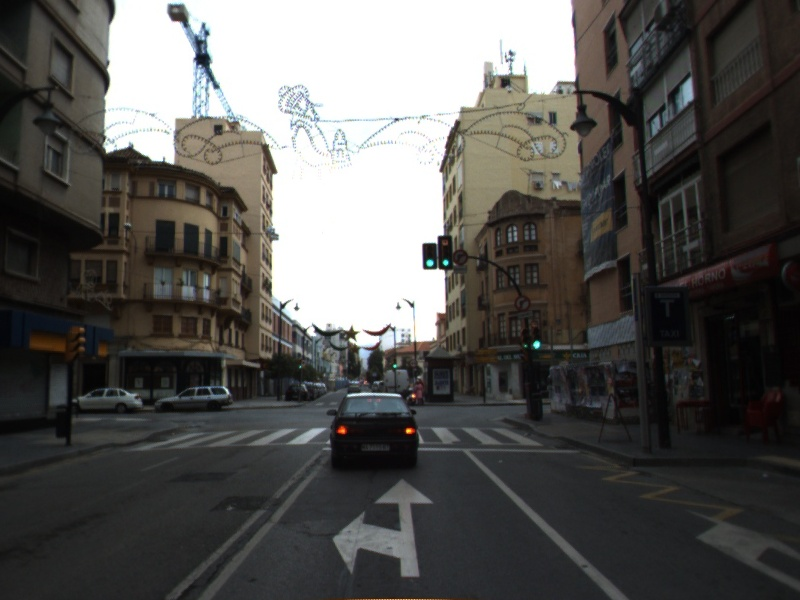RIGHT: (681, 506, 800, 591)
STRAIGHT_LEFT: (330, 474, 436, 580)
